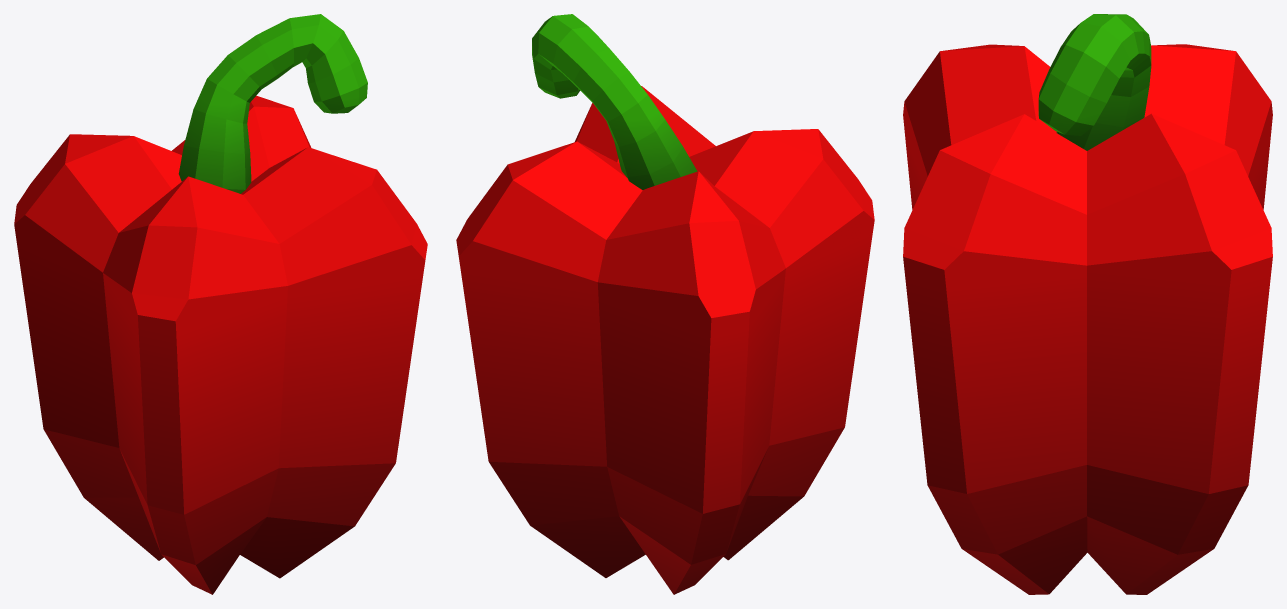
The model's file is pimenton.fbx.
The picture shows the model from 3 angles, left to right: view 1: azimuth 30°, elevation 25°; view 2: azimuth 150°, elevation 25°; view 3: azimuth 270°, elevation 25°; orthographic projection. The views are drawn at different scales.
Visible parts, largest first — view 1: Plane.001; view 2: Plane.001; view 3: Plane.001.
Boxes of the visible parts, x1,y1,x2,y2 form: Plane.001: (14,14,427,594); Plane.001: (456,14,874,594); Plane.001: (903,14,1272,594).
Bounding box in the file's own units: 238 × 411 × 226.
Materials: 1 (1 with a texture image).
